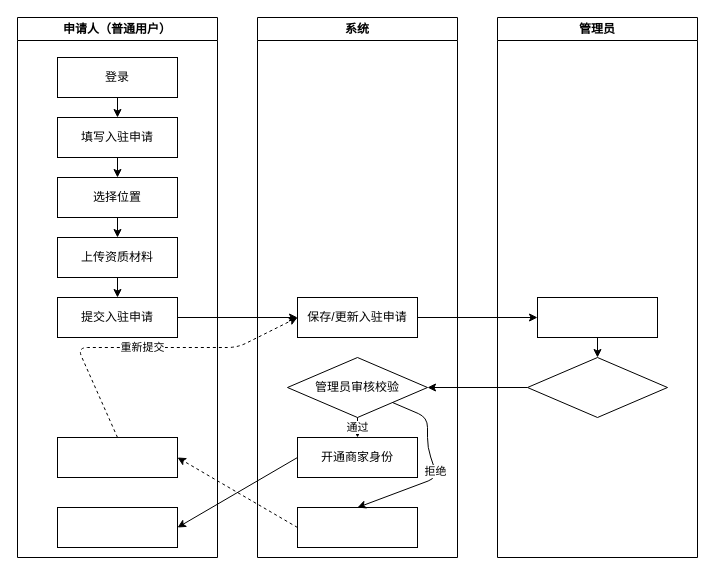
Image size: 715x575. Some labels were removed from this diagram. The centre of each missing label's shape, as x and y in pixels:
"修改申请信息" goes at (x=117, y=457).
"审核通过/拒绝" goes at (x=597, y=387).
"查看申请列表" goes at (x=597, y=317).
"记录拒绝原因" goes at (x=357, y=527).
"进入商家工作台" goes at (x=117, y=527).
